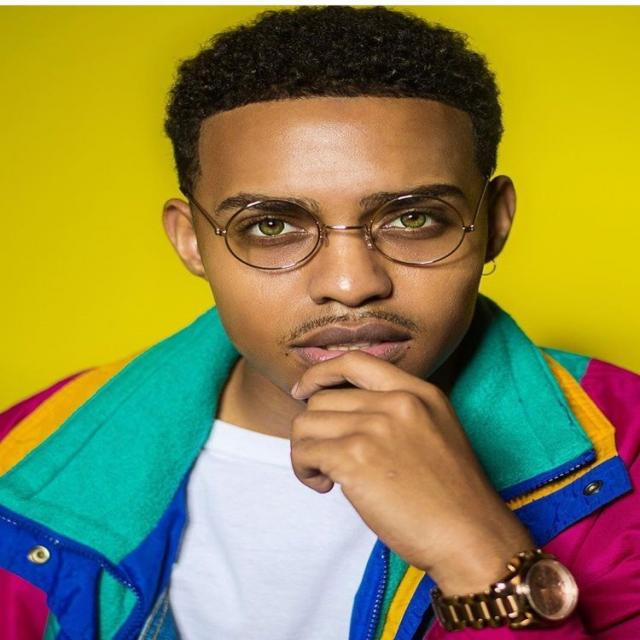earlobe: (185, 254, 208, 279), (483, 237, 503, 264)
eye: (243, 218, 305, 238), (380, 211, 445, 230)
nose: (309, 292, 395, 328)
wholeear: (162, 198, 208, 279), (483, 175, 518, 264)
